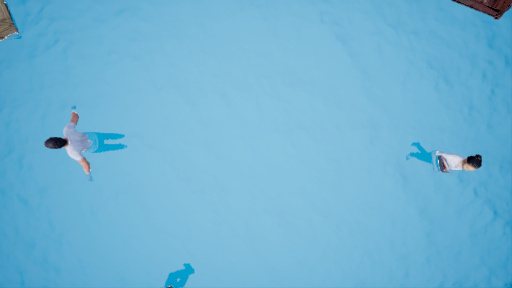person: (44, 107, 143, 173), (410, 140, 480, 192)
